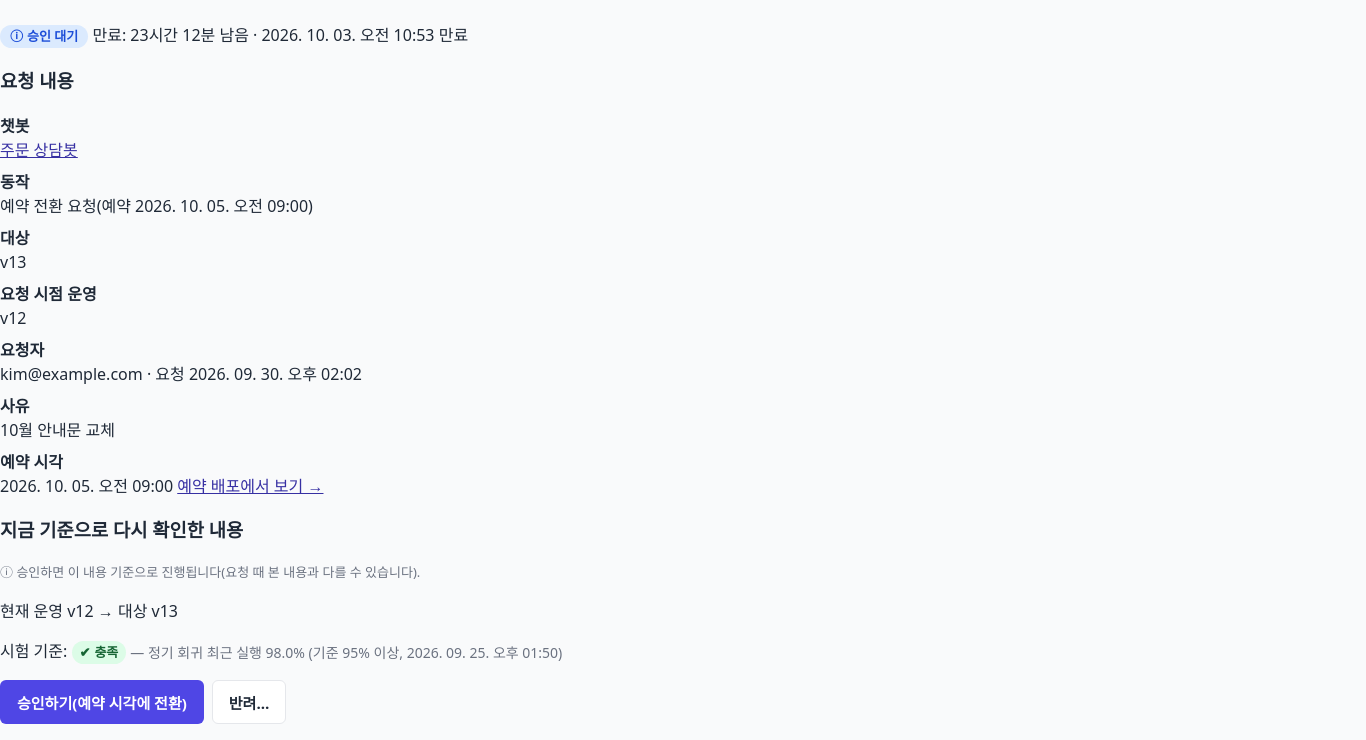
AP-2 승인 요청 상세 › 예약 전환 요청은 예약 시각과 링크를 보이고 승인 문구·확인 문구가 예약용이다
This screenshot has width=1366, height=740.
(page scrolled)
Click the button "승인하기(예약 시각에 전환)".
click(102, 702)  # box [0, 680, 204, 724]
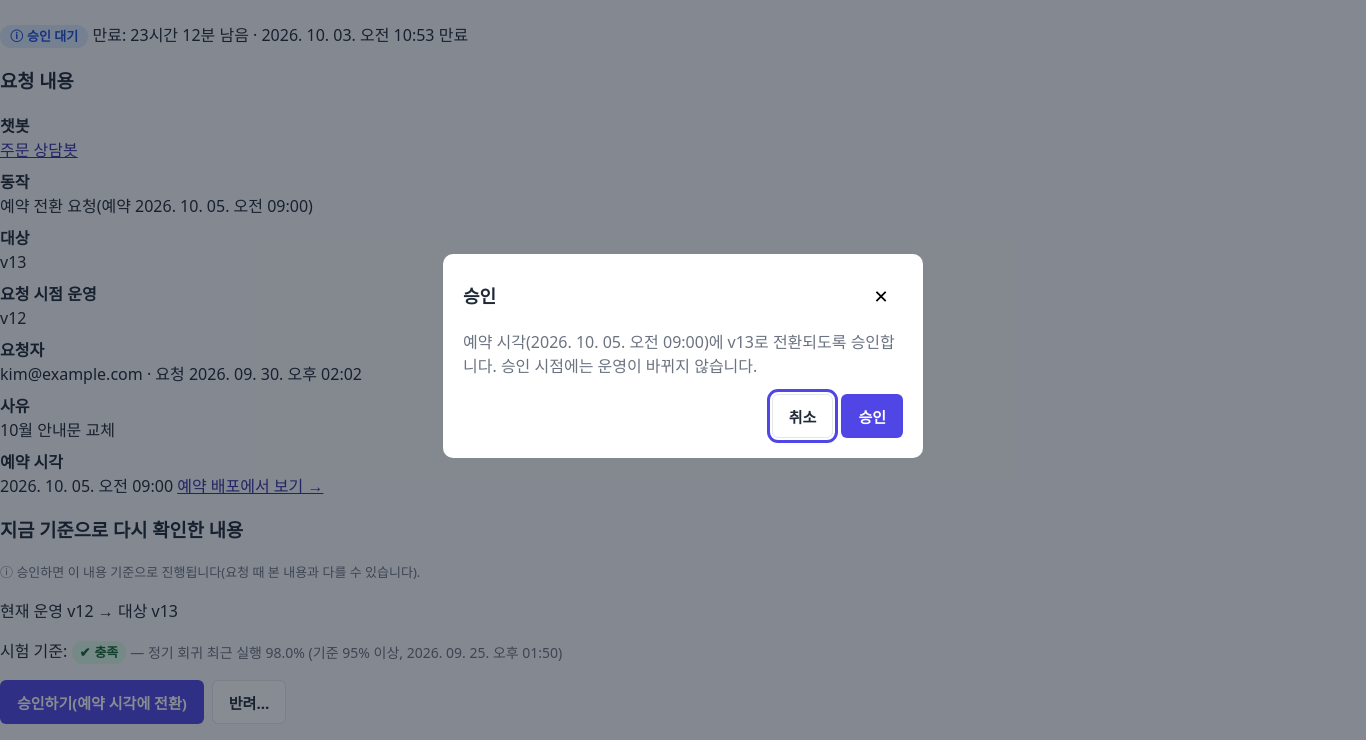
Expected: the text "승인 시점에는 운영이 바뀌지 않습니다" is shown, [463, 331, 895, 377]
